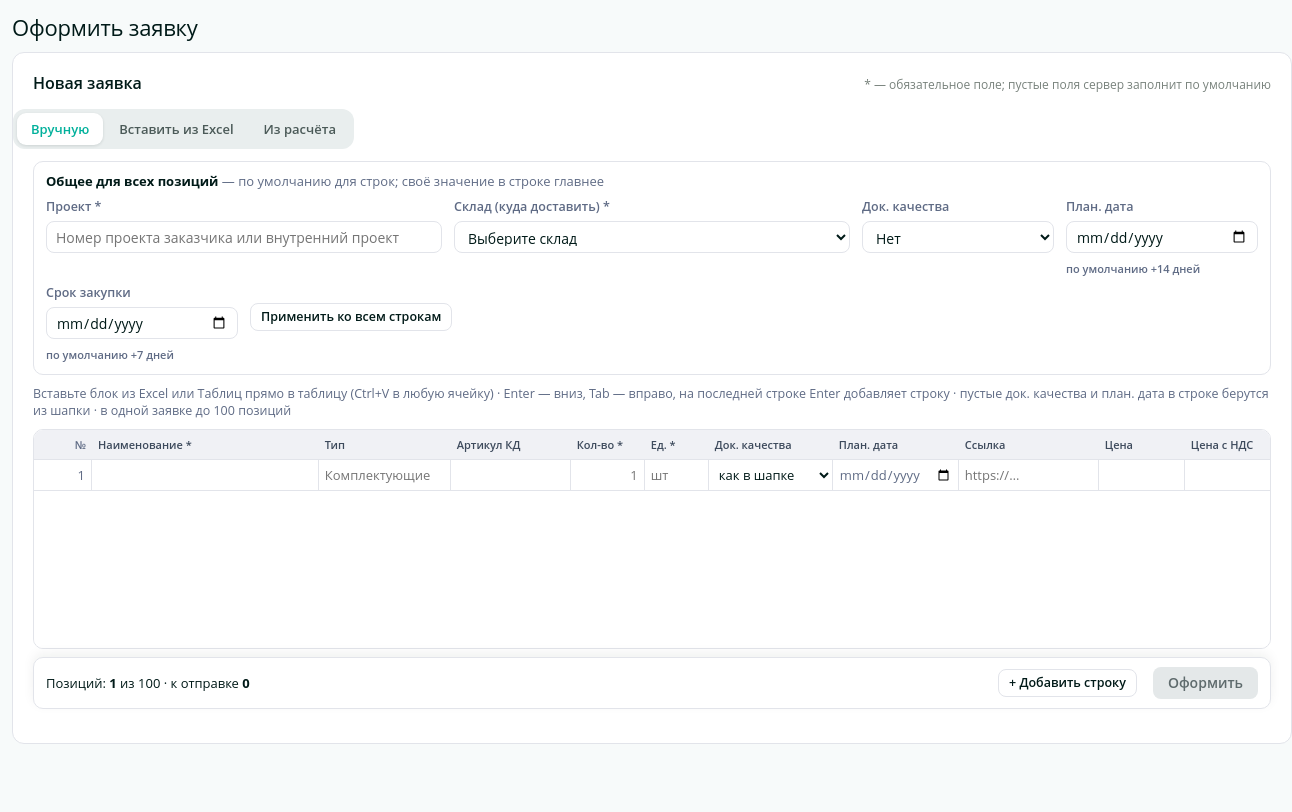
request form › the unit select rejects free text
Check: the dropdown labelled "Проект" is shown, box [46, 221, 442, 253]
Type "штучек" into the dropdown named "Ед., строка 1" at (676, 475), box [645, 460, 708, 490]
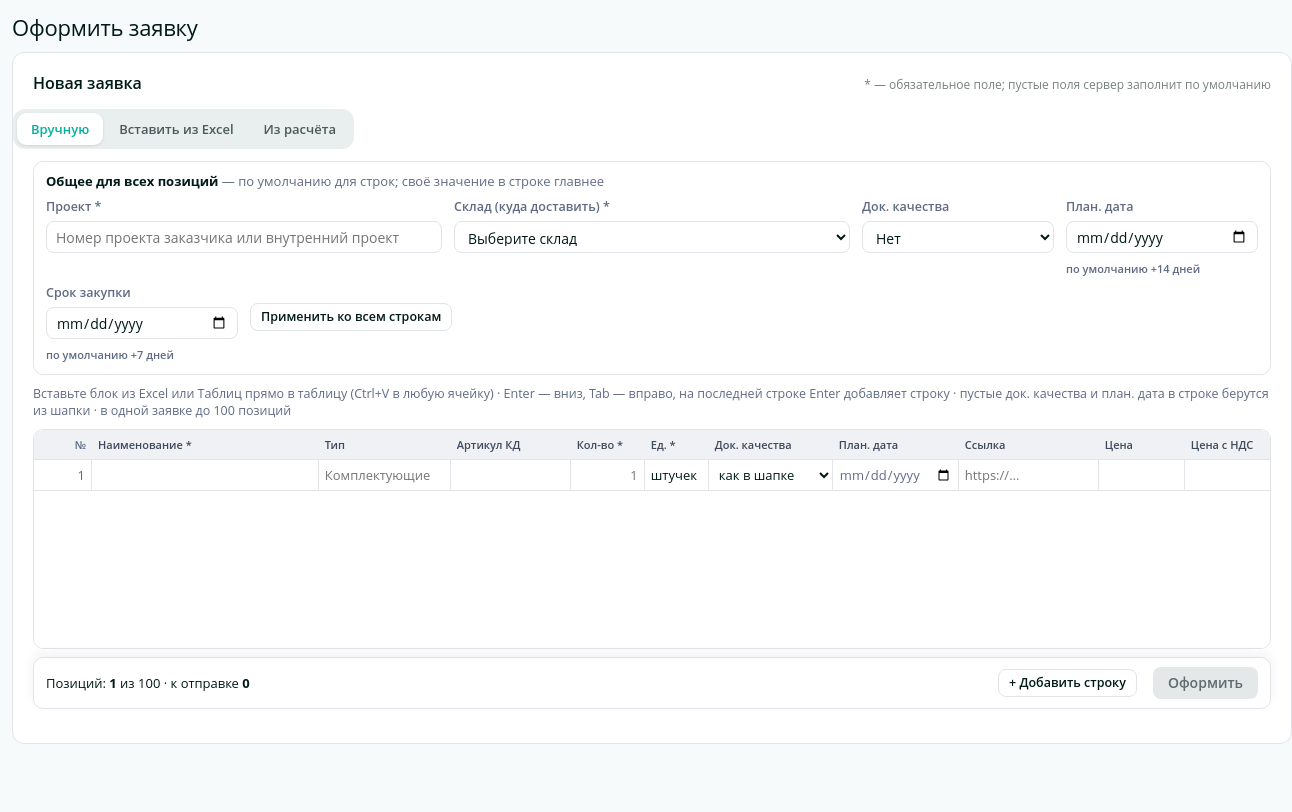
Leave the dropdown named "Ед., строка 1", box [645, 460, 708, 490]
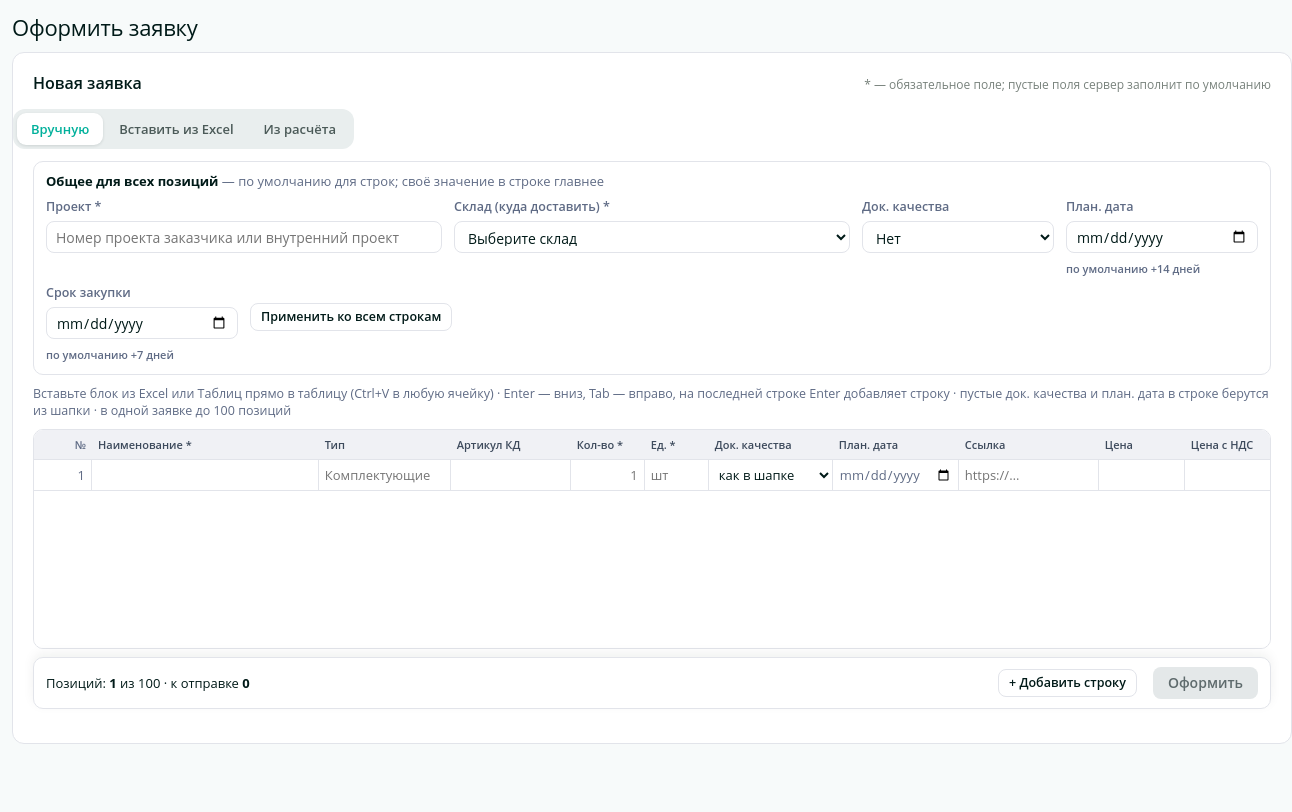
Check: the dropdown named "Ед., строка 1" is empty
Focus the dropdown named "Ед., строка 1" at (676, 475), box [645, 460, 708, 490]
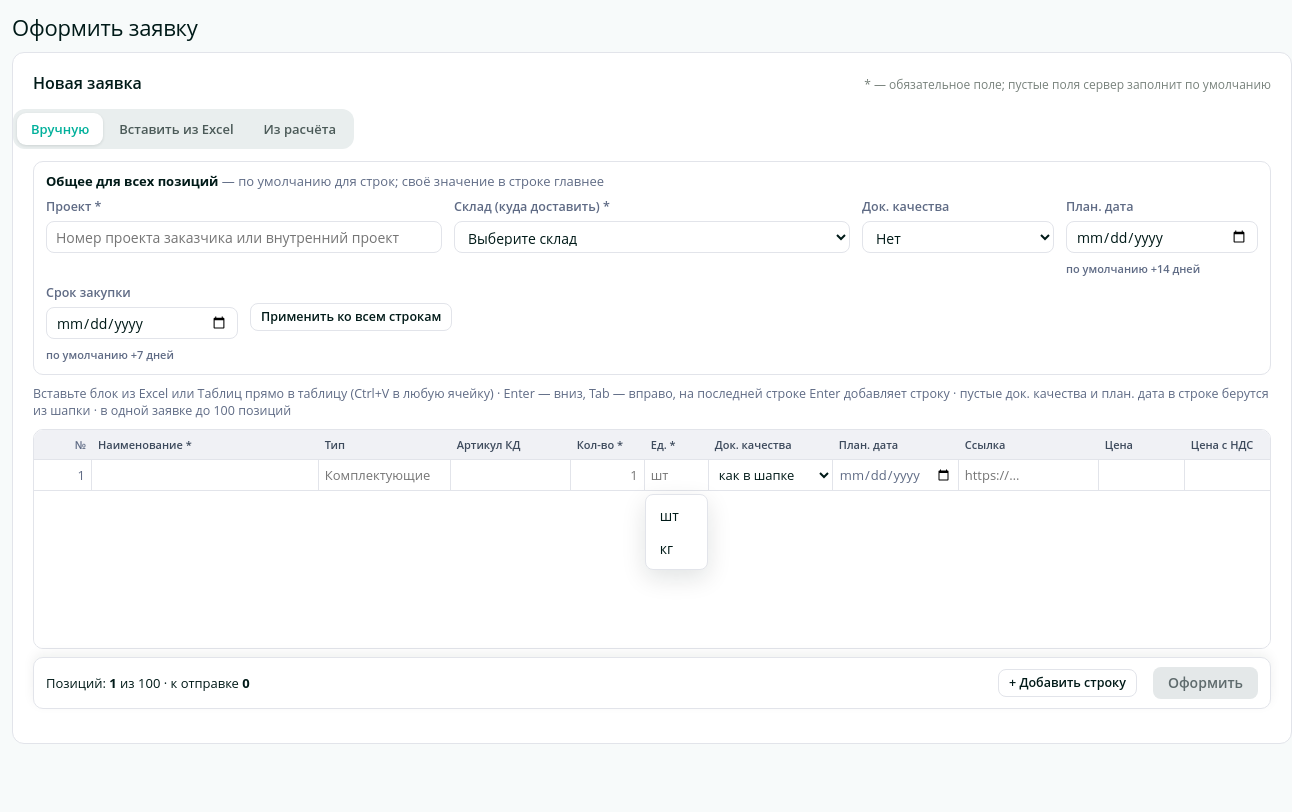
Press the mouse on the option "кг" at (666, 548), box [660, 539, 673, 558]
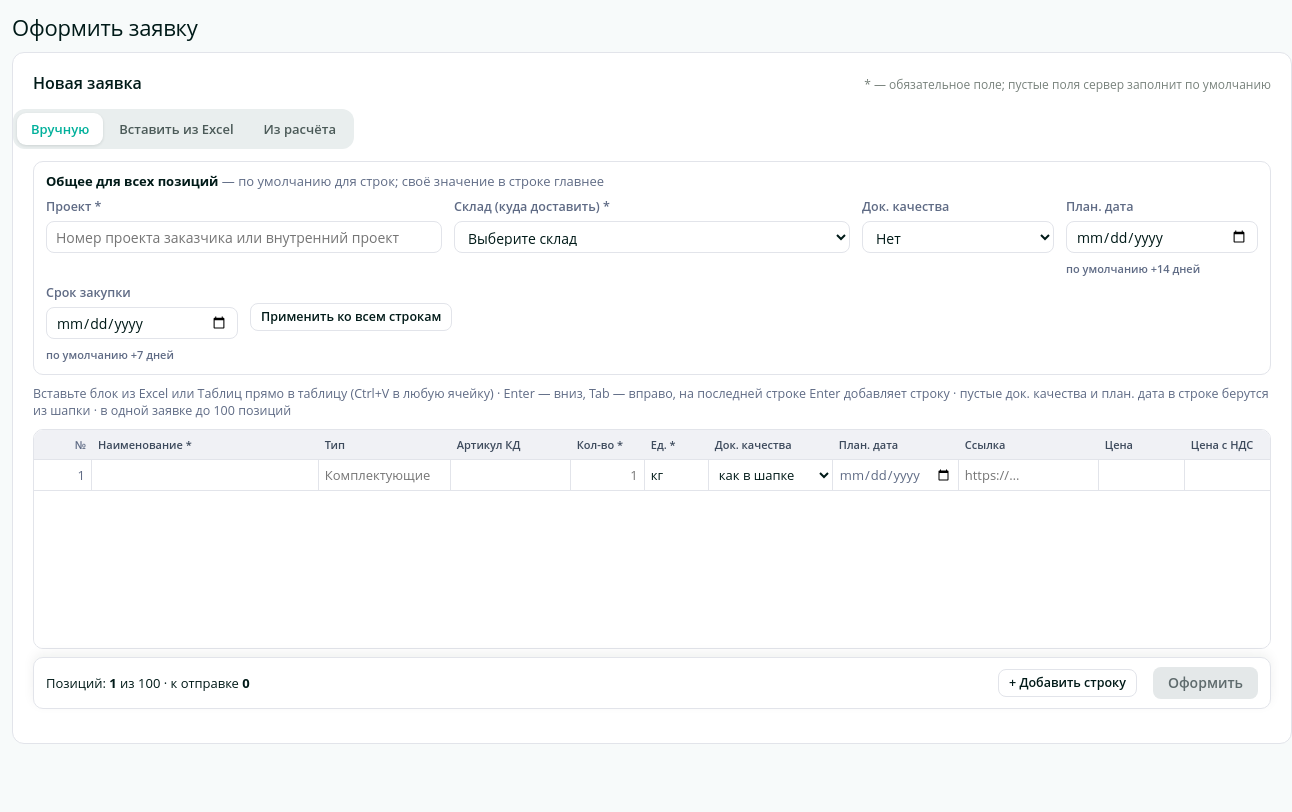
Check: the dropdown named "Ед., строка 1" holds "кг", box [645, 460, 708, 490]
